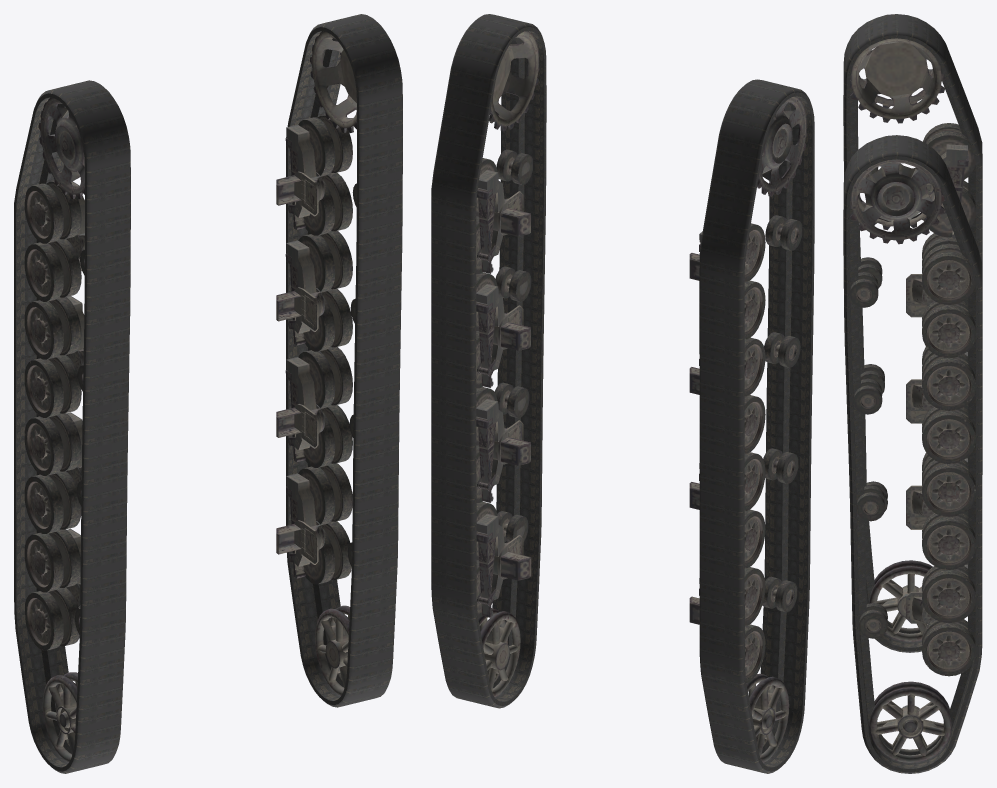
The model's file is Chassis.glb.
3 renders of one model, left to right at view 1: azimuth 30°, elevation 25°; view 2: azimuth 150°, elevation 25°; view 3: azimuth 270°, elevation 25°, orthographic. The views are drawn at different scales.
Visible parts, largest first — view 1: set_1_group_0, set_0_group_0, set_3_group_0, set_2_group_0; view 2: set_1_group_0, set_0_group_0, set_3_group_0, set_2_group_0; view 3: set_3_group_0, set_0_group_0, set_2_group_0, set_1_group_0.
Part boxes in pixels (<box>): set_1_group_0: <box>14,80,130,773</box>; set_0_group_0: <box>286,14,402,707</box>; set_3_group_0: <box>276,31,356,695</box>; set_2_group_0: <box>24,97,84,762</box>; set_1_group_0: <box>699,79,814,773</box>; set_0_group_0: <box>431,14,546,708</box>; set_3_group_0: <box>476,31,539,697</box>; set_2_group_0: <box>689,96,806,762</box>; set_3_group_0: <box>850,159,975,762</box>; set_0_group_0: <box>843,135,982,773</box>; set_2_group_0: <box>850,38,975,641</box>; set_1_group_0: <box>843,14,982,652</box>.
Bounding box in the file's own units: 2.88 × 5.95 × 1.21.
4 materials, 4 textured.
